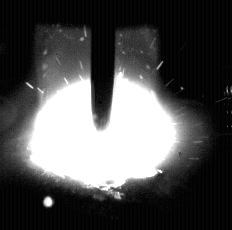arame: (92, 0, 115, 131)
poca: (27, 0, 177, 230)
